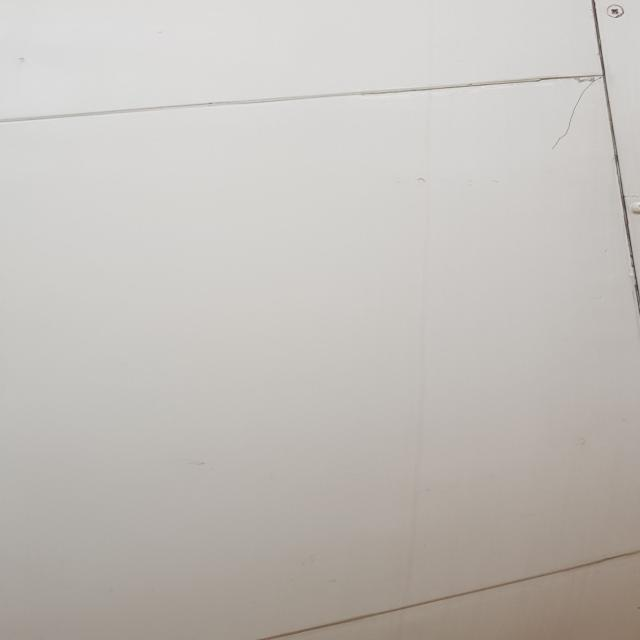Rupture: (548, 77, 606, 159)
